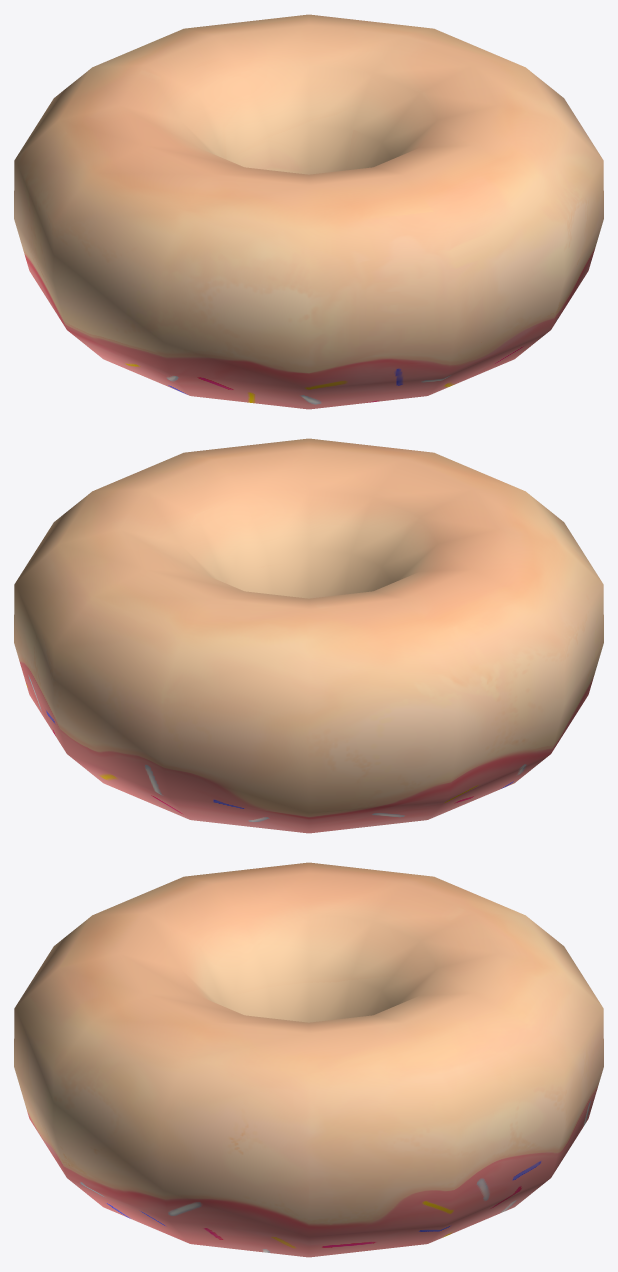
Rendered from Donut.fbx.
3 views of the same model, one above another, from view 1: azimuth 30°, elevation 25°; view 2: azimuth 150°, elevation 25°; view 3: azimuth 270°, elevation 25° (orthographic).
Visible parts, largest first — view 1: Donut; view 2: Donut; view 3: Donut.
Part boxes in pixels (left/top/right/bottom): Donut: left=14, top=14, right=603, bottom=409; Donut: left=14, top=438, right=603, bottom=833; Donut: left=14, top=862, right=603, bottom=1257.
Bounding box in the file's own units: 128 × 52.11 × 128.
1 material, 1 textured.
